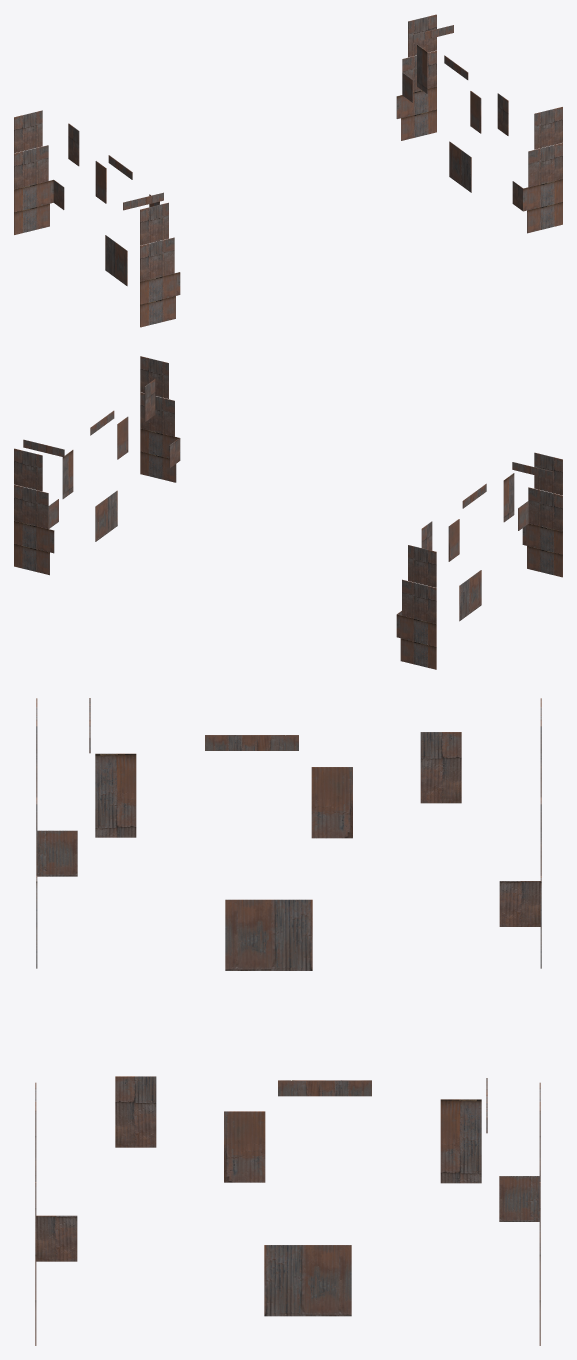
The model's file is SM_NeoLD_06_Block_Toles_00.fbx.
3 renders of one model, top to bottom at view 1: azimuth 30°, elevation 25°; view 2: azimuth 150°, elevation 25°; view 3: azimuth 270°, elevation 25°, orthographic. The views are drawn at different scales.
Parts seen in each view (by area): view 1: SM_NeoLD_06_Block_Toles_00; view 2: SM_NeoLD_06_Block_Toles_00; view 3: SM_NeoLD_06_Block_Toles_00.
Part boxes in pixels (left/top/right/bottom): SM_NeoLD_06_Block_Toles_00: left=14, top=14, right=562, bottom=327; SM_NeoLD_06_Block_Toles_00: left=14, top=356, right=562, bottom=669; SM_NeoLD_06_Block_Toles_00: left=35, top=698, right=541, bottom=1345.
Size of the model in its own units: 6280 by 1666 by 3204.
